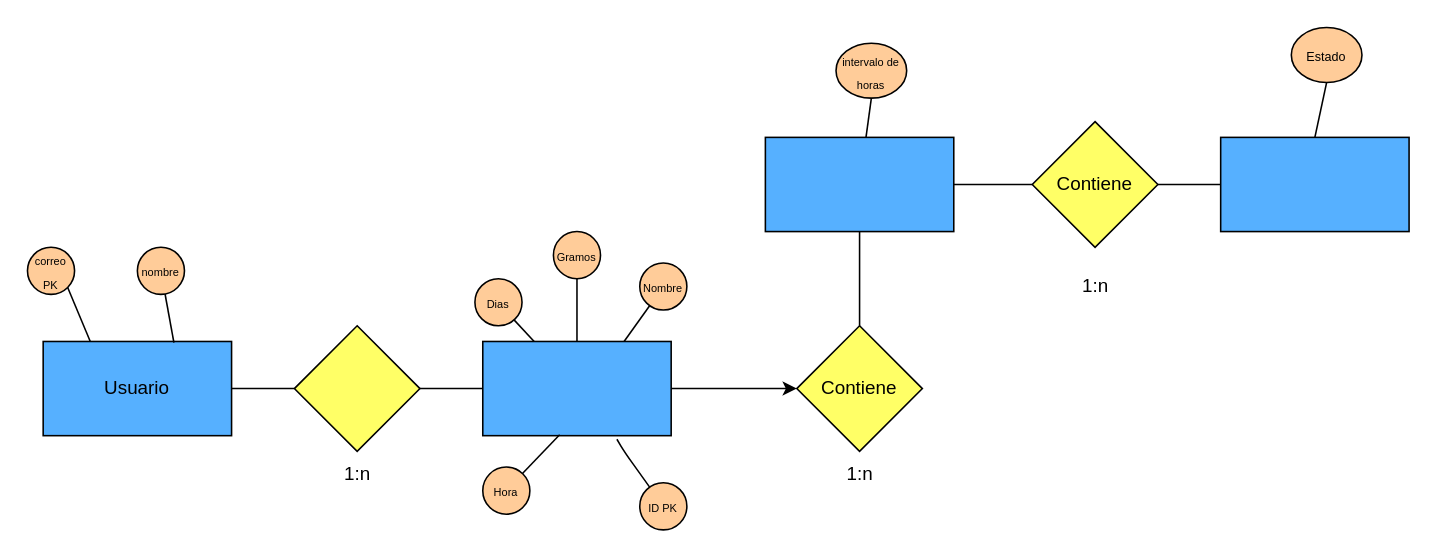
Some shapes in this 1437 by 557 pixel diagram are drawn without their labels. The shapes that lost their labels are listed below. From the top down, each one's box as (x1, y1, x2, y2) in pixels, then its label:
(764, 136, 954, 232): Recordatorios
(1219, 136, 1409, 232): Acciones
(293, 324, 420, 451): Registra
(481, 340, 671, 436): Medicamento
